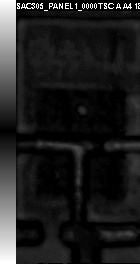led: (36, 88, 126, 199)
